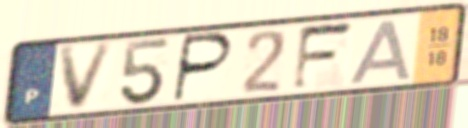2: (238, 28, 289, 96)
5: (117, 35, 173, 108)
A: (346, 17, 416, 87)
F: (289, 18, 358, 95)
P: (170, 30, 237, 105)
V: (56, 39, 119, 114)
